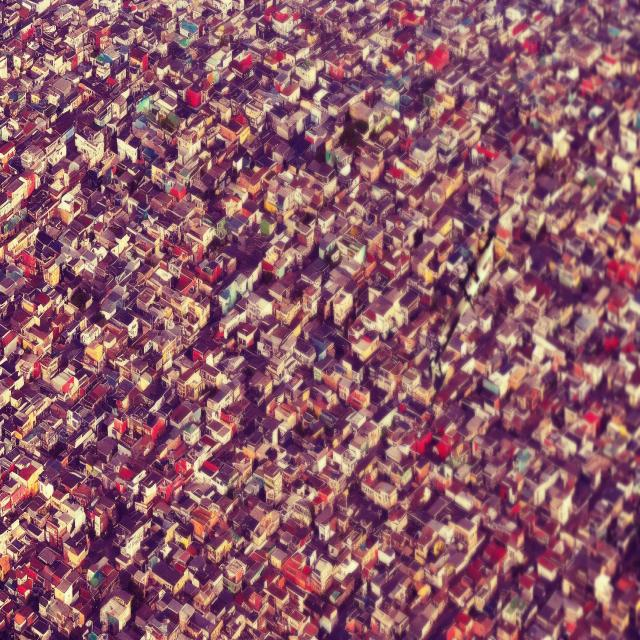airplane: (432, 232, 497, 364)
